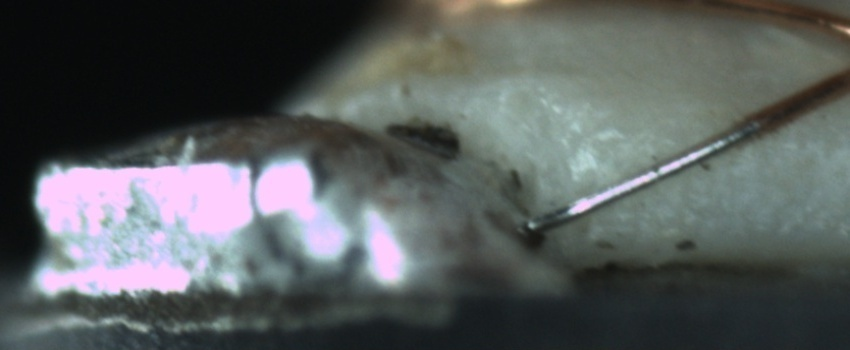TS: (529, 114, 766, 235)
